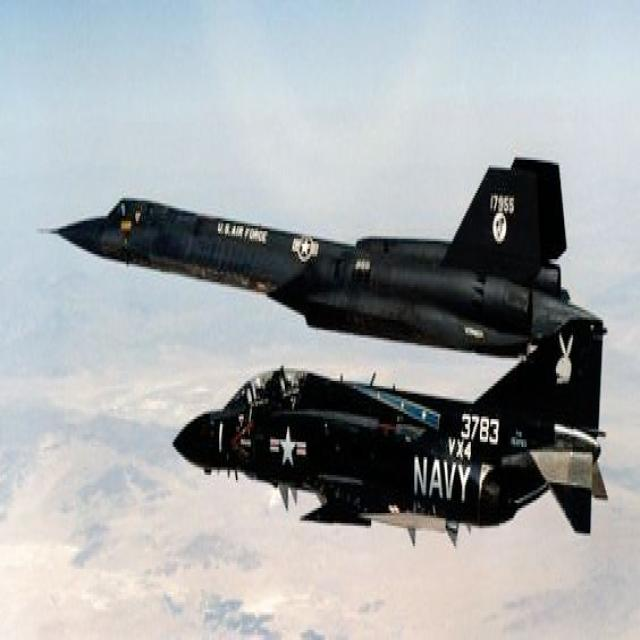MIL_Plane: (36, 157, 608, 360), (172, 315, 610, 551)
